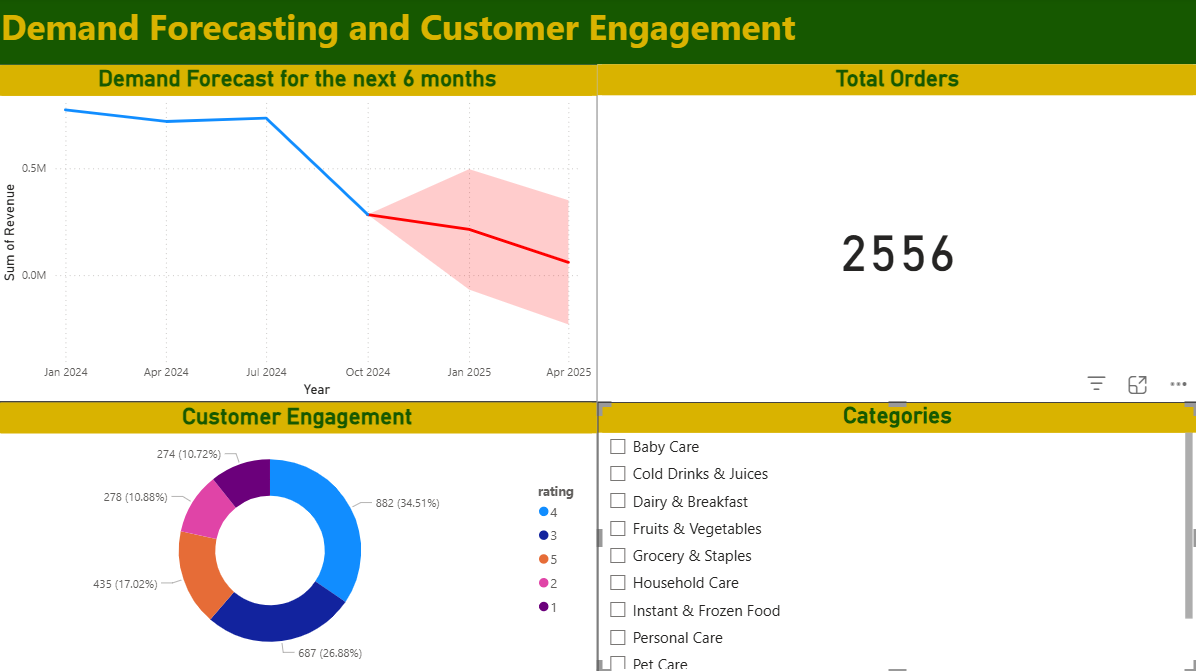

This screenshot's page, from the dashboard's own definition file:
{"tool":"powerbi","page":{"name":"Page 2","canvas":[1280,720],"ordinal":1},"visuals":[{"type":"lineChart","title":"Demand Forecast for the next 6 months","fields":{"Y":["Sum(blinkit_order_items xlsx.Revenue)"],"Category":["blinkit_orders.order_date.Variation.Date Hierarchy.Year","blinkit_orders.order_date.Variation.Date Hierarchy.Quarter","blinkit_orders.order_date.Variation.Date Hierarchy.Month","blinkit_orders.order_date.Variation.Date Hierarchy.Day"]},"box":[0,71.9,640.7,359.5],"z":0},{"type":"textbox","box":[0,0,1279.7,71.9],"z":1},{"type":"donutChart","title":"Customer Engagement","fields":{"Category":["blinkit_customer_feedback.rating"],"Y":["CountNonNull(blinkit_orders.order_date)"]},"box":[0,430.9,640.6,289.1],"z":2},{"type":"card","title":"Total Orders","fields":{"Values":["CountNonNull(blinkit_customer_feedback.order_id)"]},"box":[641,72,639,359],"z":3},{"type":"slicer","title":"Categories","fields":{"Values":["blinkit_products.category"]},"box":[641,431,639,289],"z":4}]}

Visuals, with their boxes on the page's 1280x720 design canvas (x1, y1, x2, y2). These are canvas units, not pixel positions in the 1196x671 screenshot, which may show the page scaled, cropped or inside an application window:
"Demand Forecast for the next 6 months" lineChart: (0,72,641,431)
textbox: (0,0,1280,72)
"Customer Engagement" donutChart: (0,431,641,720)
"Total Orders" card: (641,72,1280,431)
"Categories" slicer: (641,431,1280,720)
